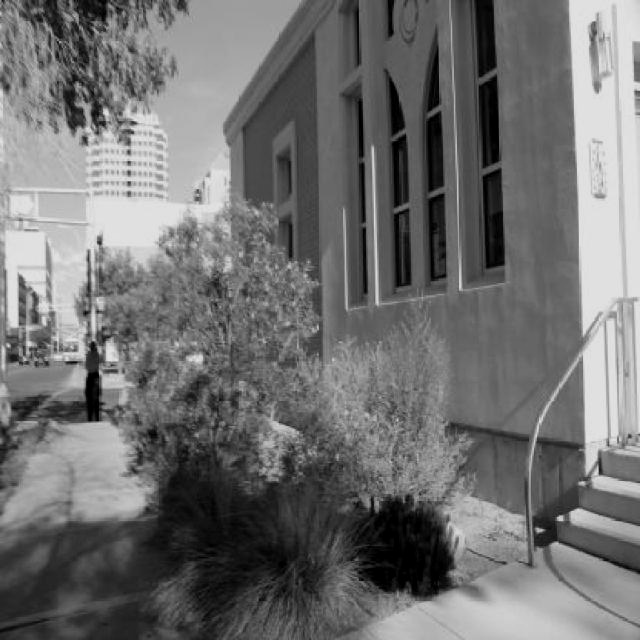stair: (554, 438, 640, 572)
